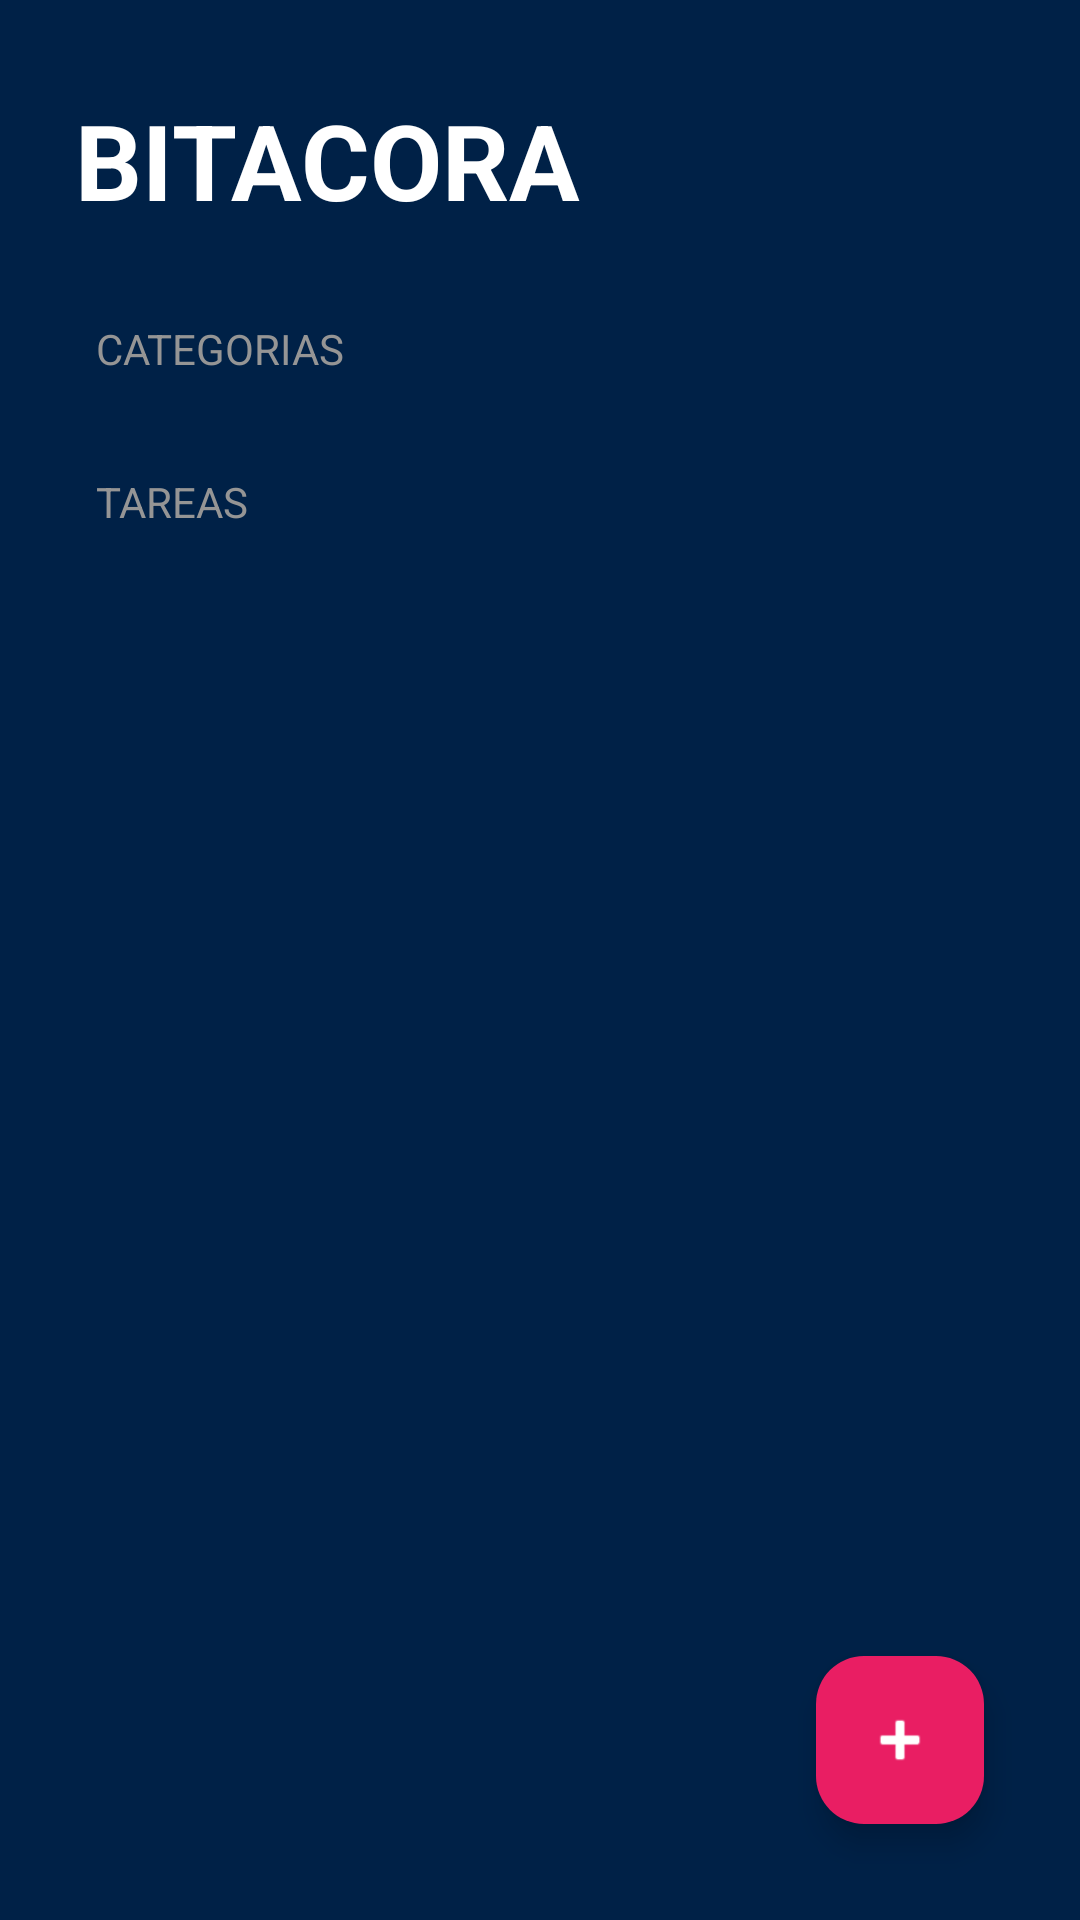

Icons on this 1080×1920 Android screen, each with the point to tap as point (x, y):
add: point (900, 1740)
